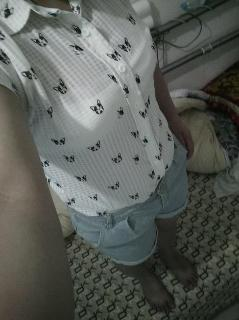short sleeve top: (0, 0, 175, 216)
shorts: (67, 133, 191, 266)
